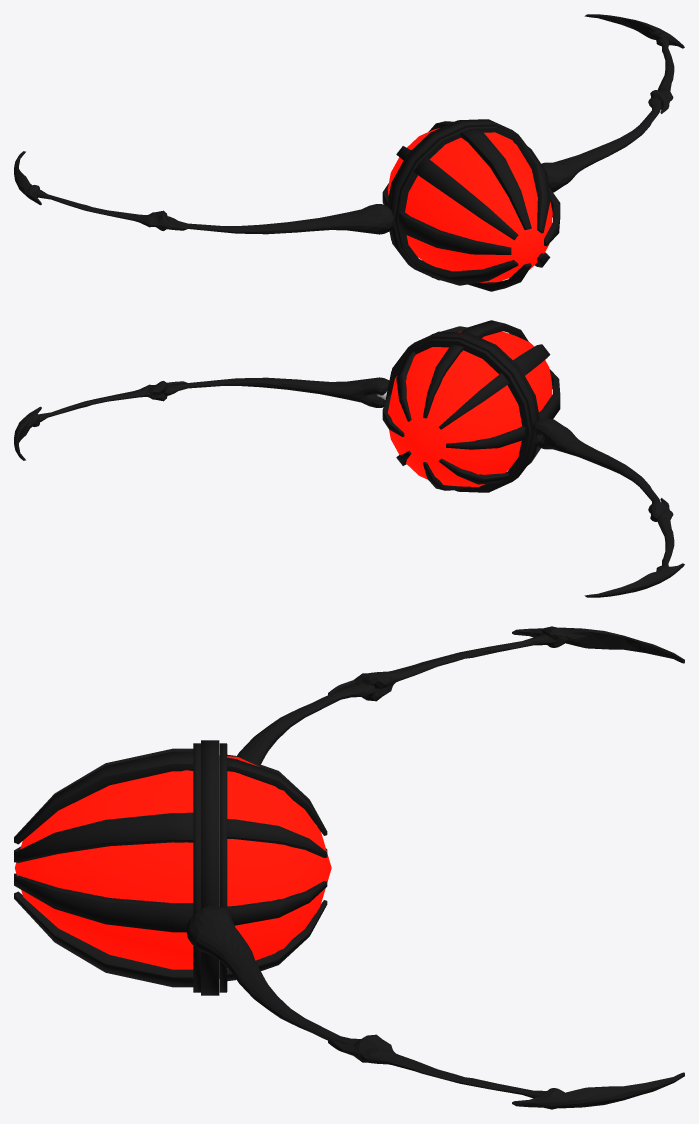
Rendered from Hugger4.fbx.
The picture shows the model from 3 angles, top to bottom: view 1: azimuth 30°, elevation 25°; view 2: azimuth 150°, elevation 25°; view 3: azimuth 270°, elevation 25°; orthographic projection. The views are drawn at different scales.
Parts seen in each view (by area): view 1: Sphere.001, Group46341.001, Group46341, Cube.012, Cube.015, Cube.001, Cylinder, Cylinder.002, Cube.011, Cube.003, Cube.008, Cube.004; view 2: Sphere.001, Group46341, Group46341.001, Cylinder.001, Cylinder, Cube.013, Cube.000, Cube.014, Cube.001, Cube.010, Cube.015, Cube.002 (+1 smaller); view 3: Sphere.001, Group46341, Group46341.001, Cube.003, Cube.004, Cylinder, Cube.001, Cube.007, Cylinder.001, Cylinder.002, Cube.002, Cube.005 (+2 smaller).
Boxes of the visible parts, x1,y1,x2,y2 form: Sphere.001: (387,128,552,282); Group46341.001: (14,151,394,234); Group46341: (541,14,684,192); Cube.012: (398,211,511,254); Cube.015: (413,156,518,240); Cube.001: (460,128,531,229); Cylinder: (388,119,526,280); Cylinder.002: (394,125,523,272); Cube.011: (413,259,518,285); Cube.003: (510,135,550,233); Cube.008: (468,263,531,291); Cube.004: (544,187,560,246); Sphere.001: (387,331,552,486); Group46341: (14,377,389,460); Group46341.001: (533,418,684,597); Cylinder.001: (386,338,532,492); Cylinder: (392,331,538,492); Cube.013: (446,426,525,449); Cube.000: (423,344,463,418); Cube.014: (439,373,509,429); Cube.001: (461,320,528,341); Cube.010: (439,458,509,484); Cube.015: (513,344,550,375); Cube.002: (396,352,415,421); Sphere.001: (15,755,331,978); Group46341: (186,906,684,1109); Group46341.001: (237,626,684,764); Cube.003: (14,812,194,862); Cube.004: (14,875,194,932); Cylinder: (201,740,219,995); Cube.001: (14,751,194,844); Cube.007: (14,893,194,987); Cylinder.001: (219,743,227,992); Cylinder.002: (193,743,200,992); Cube.002: (227,819,327,857); Cube.005: (227,881,327,925).
Size of the model in its own units: 878 by 200 by 526.
